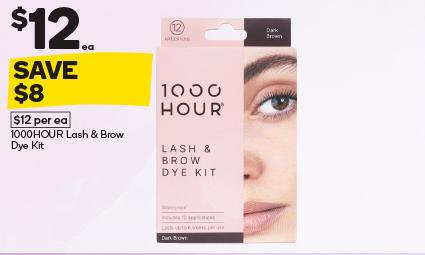description_block: (6, 128, 130, 156)
price_main: (8, 4, 100, 54)
product_image_block: (152, 12, 310, 250)
promo_text_block: (8, 56, 148, 107)
unit_price_block: (4, 110, 80, 129)
